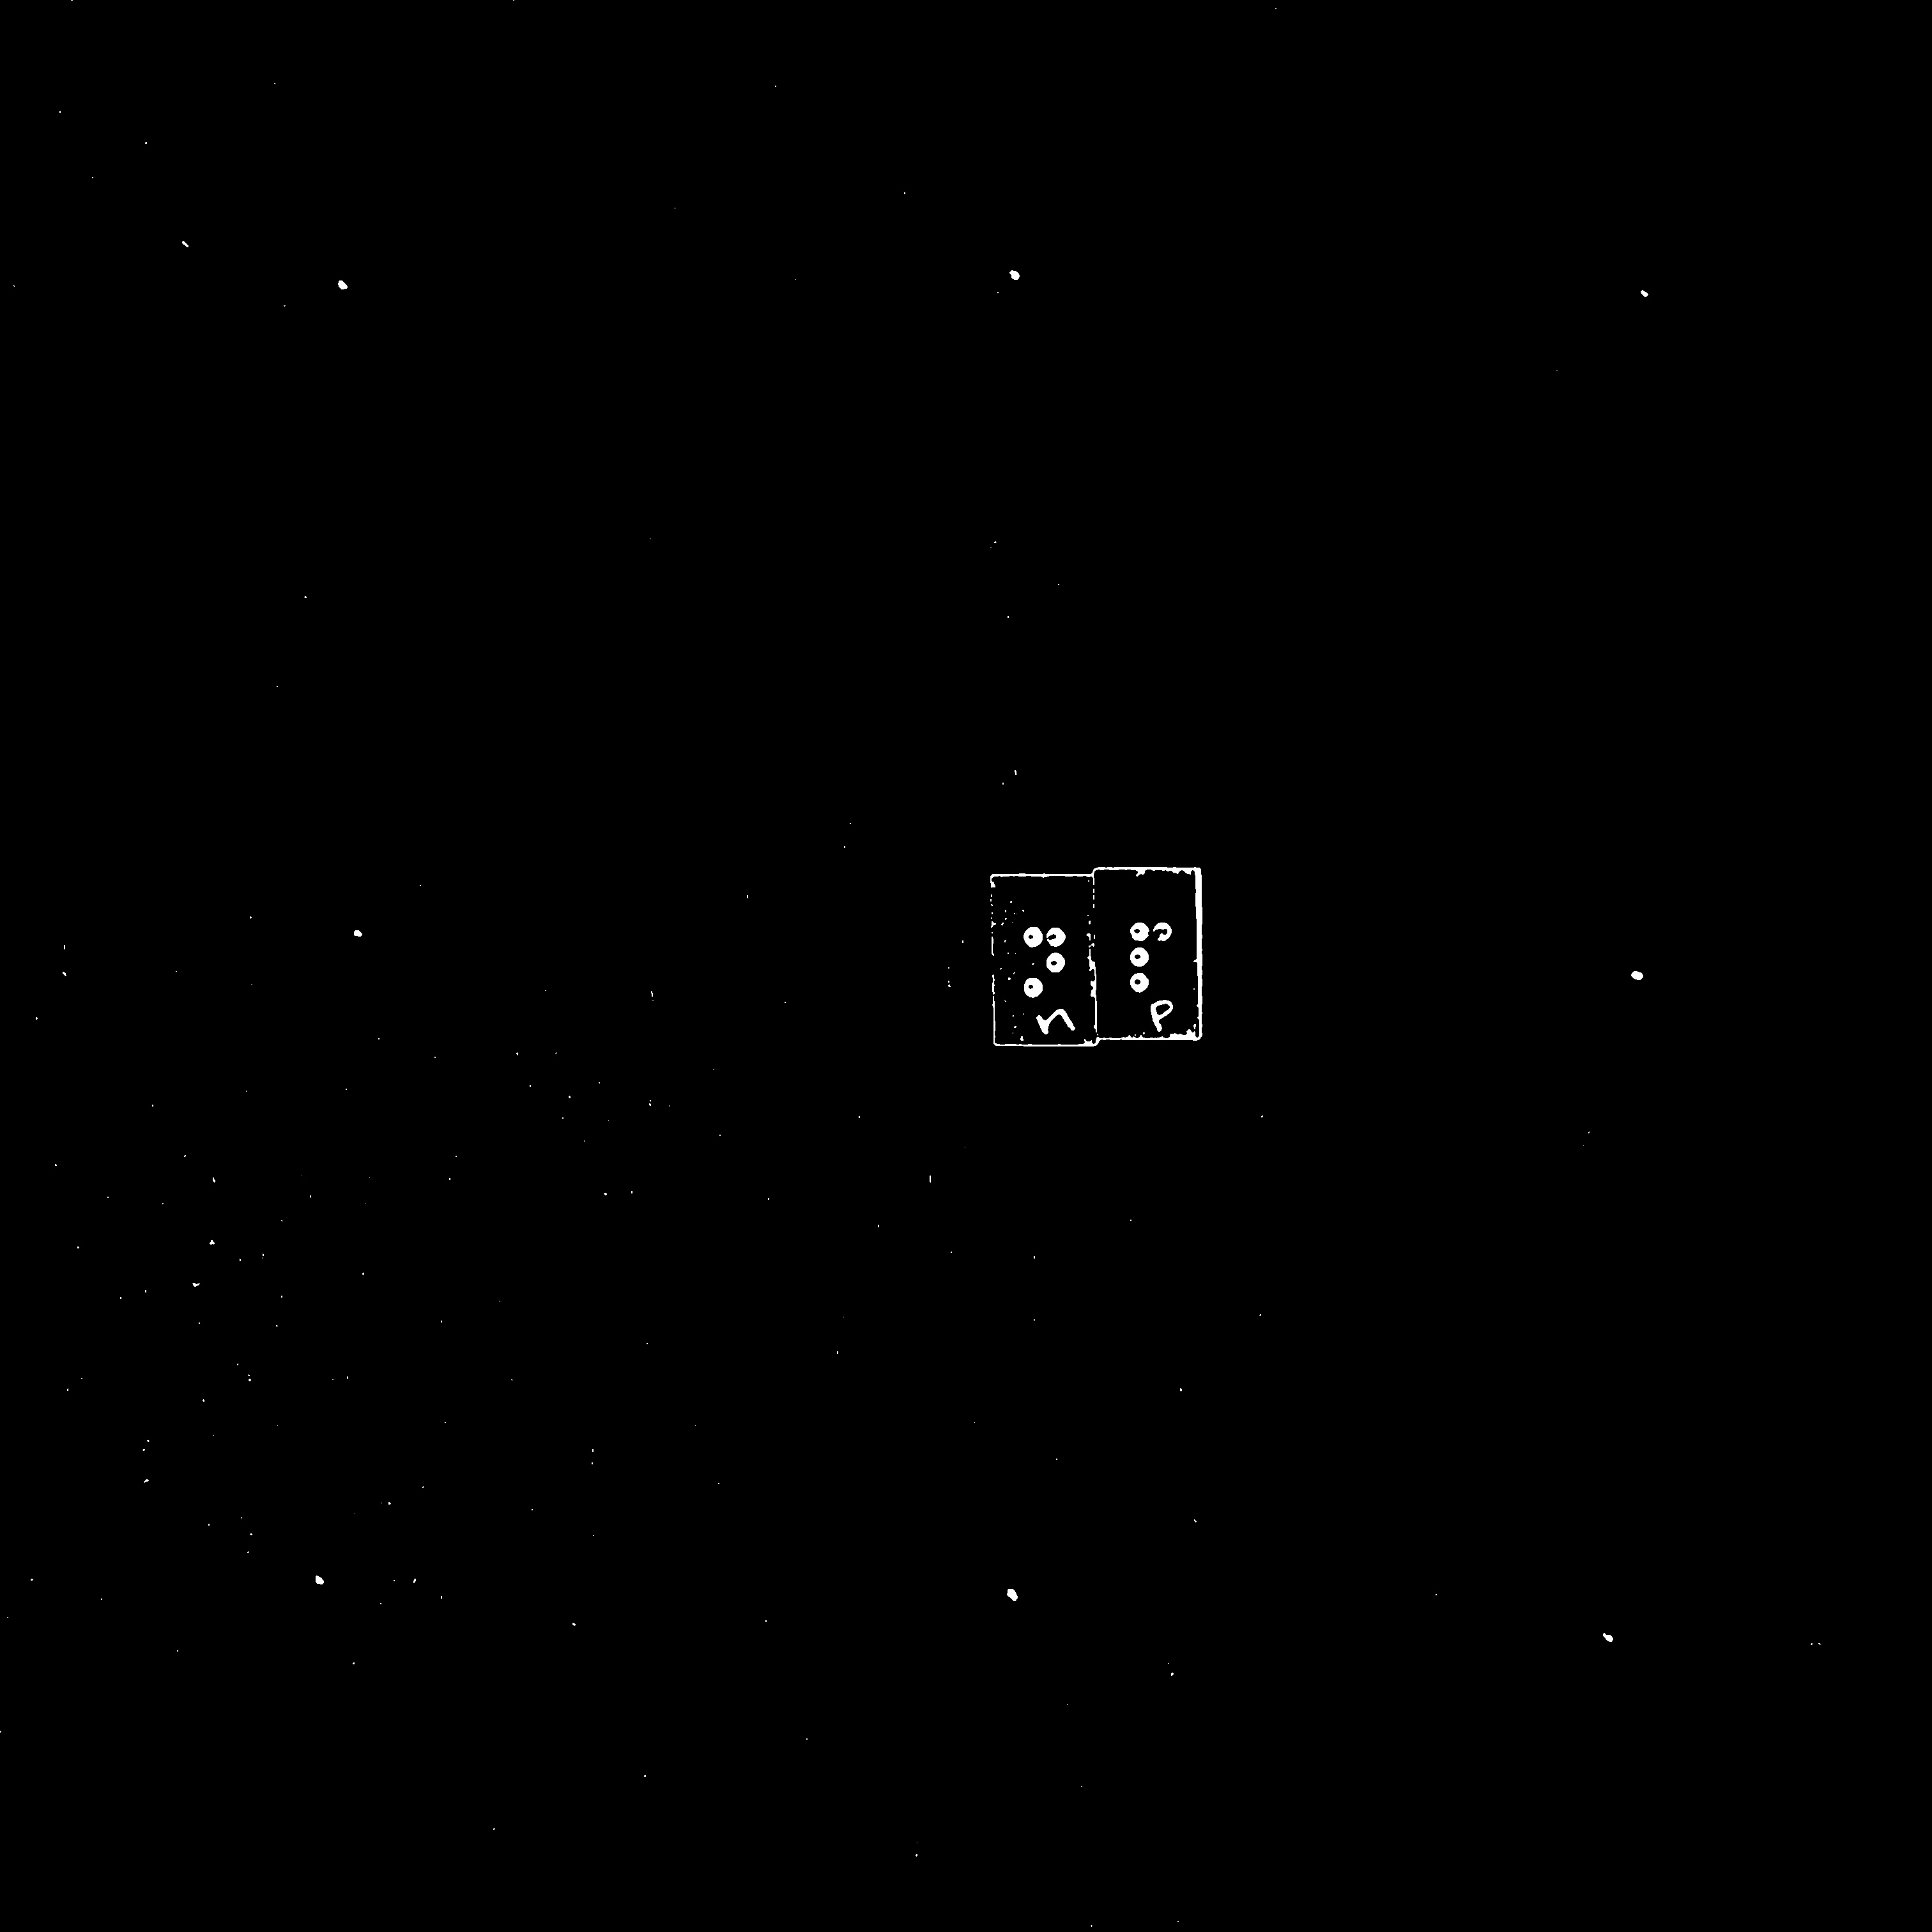n: (1011, 914, 1069, 1000)
p: (1124, 907, 1177, 998)
